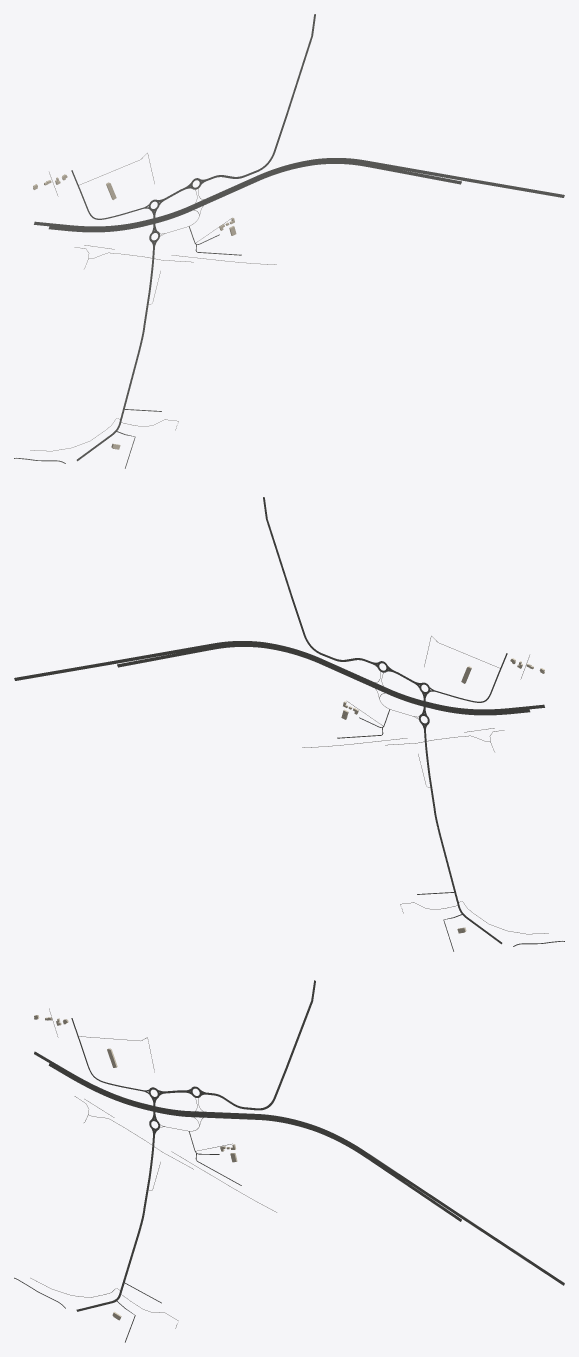
Rendered from historic-palestine-12_31_3536_3255.glb.
3 views of the same model, one above another, from view 1: azimuth 30°, elevation 25°; view 2: azimuth 150°, elevation 25°; view 3: azimuth 330°, elevation 25° (orthographic).
Visible parts, largest first — view 1: Road 71.001, Road 71, Road 7103.002; view 2: Road 71.001, Road 71, Road 7103.002; view 3: Road 71.001, Road 71, Road 7103.002, Road 7101.008.
Boxes of the visible parts, x1,y1,x2,y2 form: Road 71.001: (34, 158, 564, 229); Road 71: (48, 161, 461, 232); Road 7103.002: (206, 14, 315, 180); Road 71.001: (14, 641, 544, 712); Road 71: (117, 643, 530, 715); Road 7103.002: (263, 497, 372, 663); Road 71.001: (34, 1051, 564, 1285); Road 71: (48, 1063, 461, 1221); Road 7103.002: (206, 980, 315, 1110); Road 7101.008: (76, 1157, 152, 1311).
Bounding box in the file's own units: 2222 × 1575 × 8.7.
